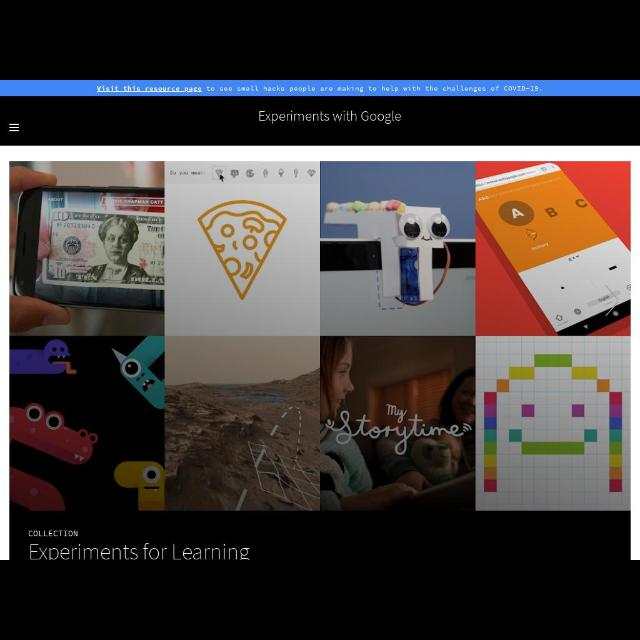icon: (8, 121, 20, 132)
image: (9, 162, 631, 510)
text: (29, 543, 252, 559), (96, 85, 544, 92), (258, 110, 402, 126), (28, 530, 78, 538)
toolbar: (1, 98, 639, 146)
